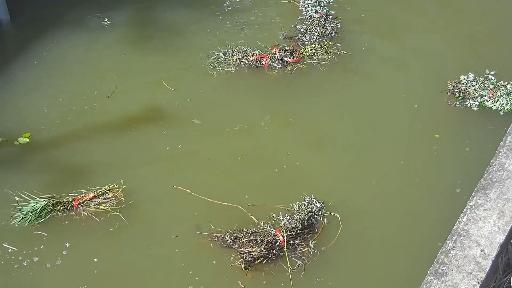leaf: (6, 133, 34, 144)
twig: (150, 165, 338, 281), (3, 177, 141, 231), (194, 43, 356, 71), (438, 69, 512, 125), (267, 0, 343, 43)
